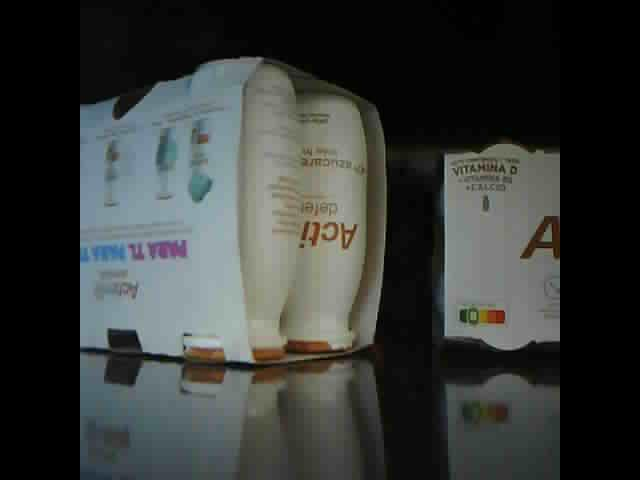actimel: (81, 53, 388, 368), (439, 138, 560, 357)
